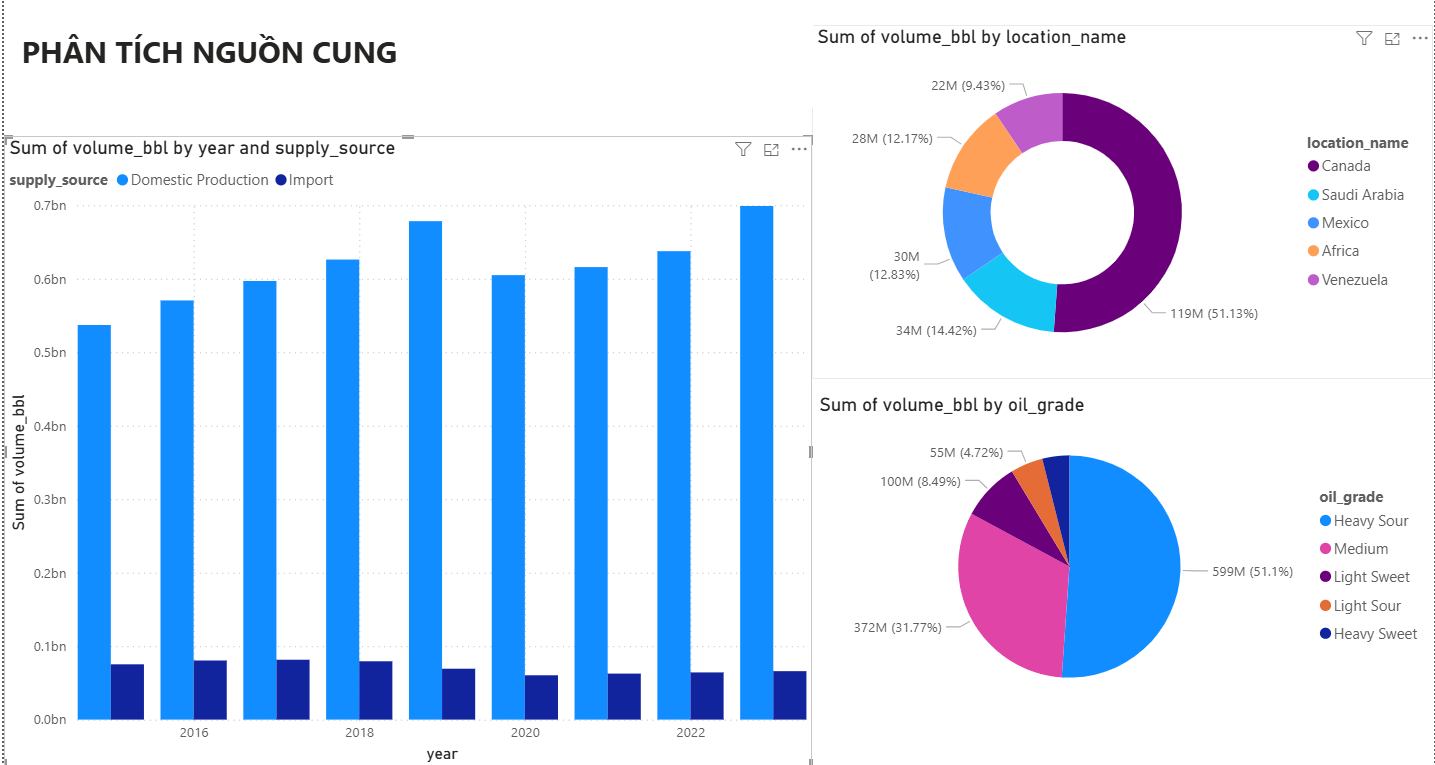

Layout of this report page (visuals, bound fields, positions):
{"tool":"powerbi","page":{"name":"SUPPLY ANALYSIS","canvas":[1280,720],"ordinal":1},"visuals":[{"type":"clusteredColumnChart","fields":{"Category":["oil_dw fact_oil_supply.year"],"Y":["Sum(oil_dw fact_oil_supply.volume_bbl)"],"Series":["oil_dw fact_oil_supply.supply_source"]},"box":[0,154,723.6,566],"z":0},{"type":"donutChart","fields":{"Category":["oil_dw fact_oil_supply.location_name"],"Y":["Sum(oil_dw fact_oil_supply.volume_bbl)"]},"box":[723.6,54.5,556.4,317.1],"z":1000},{"type":"textbox","box":[10.7,54.6,713.7,74.3],"z":2000},{"type":"pieChart","fields":{"Category":["oil_dw fact_oil_supply.oil_grade"],"Y":["Sum(oil_dw fact_oil_supply.volume_bbl)"]},"box":[725.6,384.2,554.4,291.8],"z":3000}]}

Visuals, with their boxes on the page's 1280x720 design canvas (x1, y1, x2, y2). These are canvas units, not pixel positions in the 1435x765 screenshot, which may show the page scaled, cropped or inside an application window:
clusteredColumnChart - oil_dw fact_oil_supply.year x Sum(oil_dw fact_oil_supply.volume_bbl): bbox=(0, 154, 724, 720)
donutChart - oil_dw fact_oil_supply.location_name x Sum(oil_dw fact_oil_supply.volume_bbl): bbox=(724, 54, 1280, 372)
textbox: bbox=(11, 55, 724, 129)
pieChart - oil_dw fact_oil_supply.oil_grade x Sum(oil_dw fact_oil_supply.volume_bbl): bbox=(726, 384, 1280, 676)
